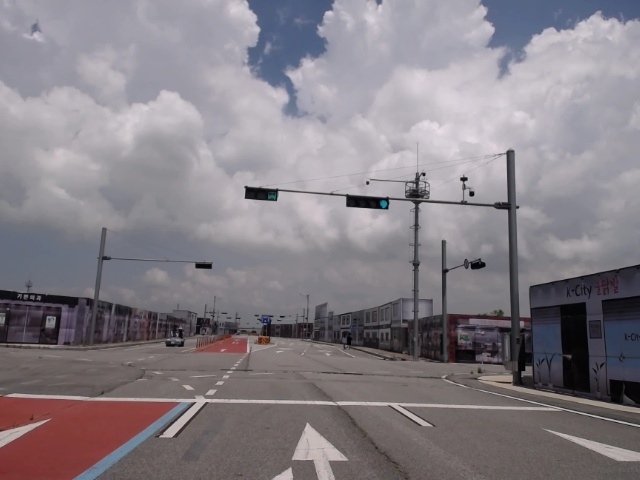straight_green_4: (347, 196, 393, 210)
